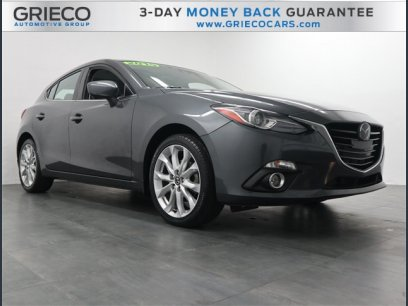Mazda3 Hatchback: (15, 58, 388, 229)
